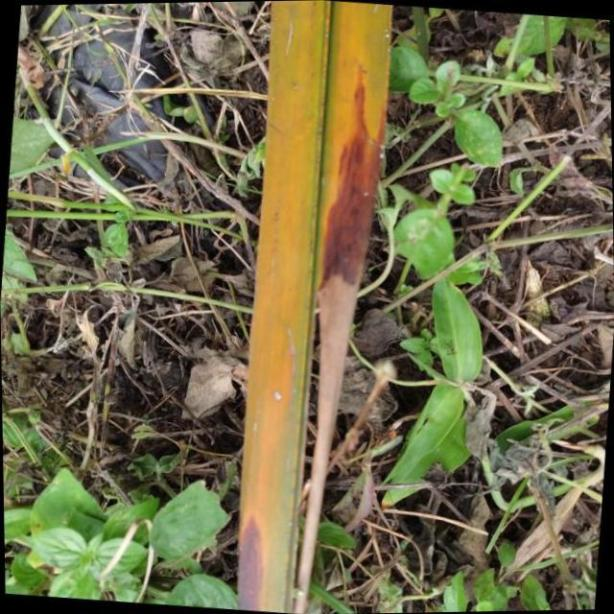Megnesium: (243, 0, 393, 614)
